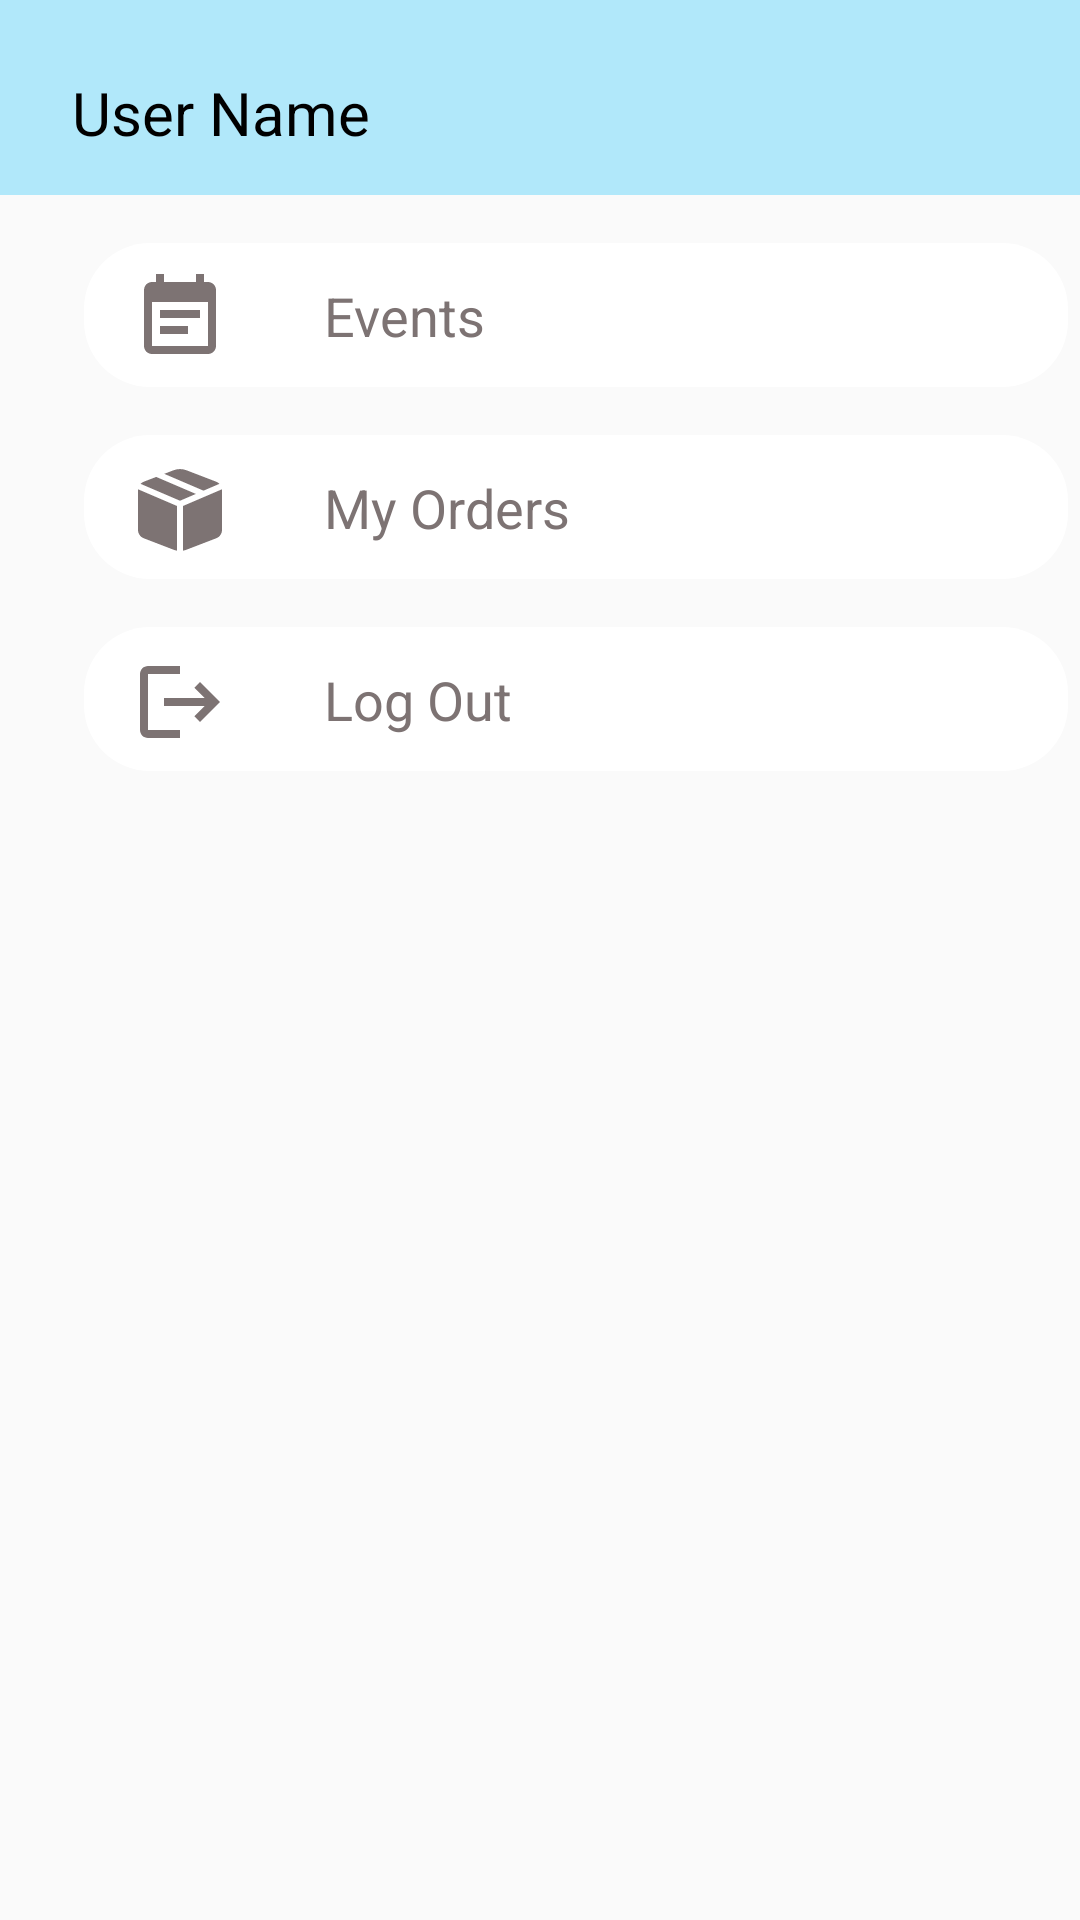

Point at icon controls on the screen. Image size 1080*1920, points as [x,y].
Order Image: [180,510]
